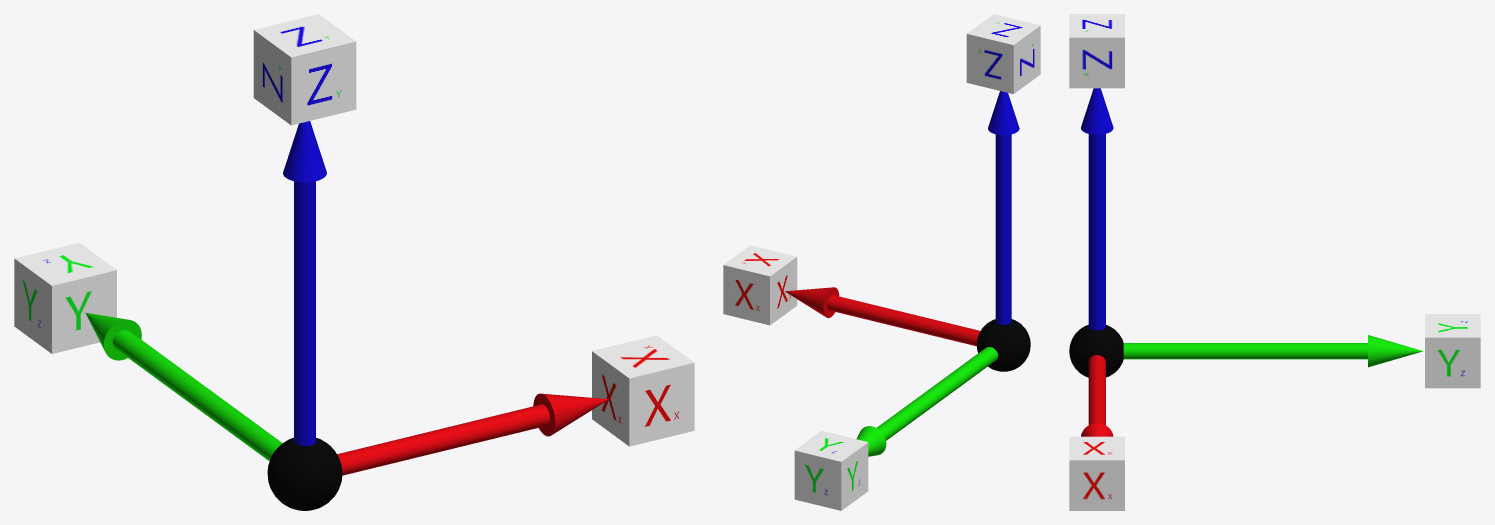
Rendered from morphDebugAxis.glb.
The picture shows the model from 3 angles, left to right: view 1: azimuth 30°, elevation 25°; view 2: azimuth 150°, elevation 25°; view 3: azimuth 270°, elevation 25°; orthographic projection. The views are drawn at different scales.
Parts seen in each view (by area): view 1: cubeZ, cubeX, cubeY, z, x, y, center; view 2: cubeY, cubeZ, cubeX, z, x, y, center; view 3: y, z, cubeX, cubeY, cubeZ, center, x.
Boxes of the visible parts, <box> form: cubeZ: <box>253,14,356,125</box>; cubeX: <box>592,335,694,446</box>; cubeY: <box>14,242,116,353</box>; z: <box>283,121,326,445</box>; x: <box>337,393,608,475</box>; y: <box>85,312,282,461</box>; center: <box>267,437,342,510</box>; cubeY: <box>794,430,868,510</box>; cubeZ: <box>966,14,1040,93</box>; cubeX: <box>723,245,797,325</box>; z: <box>988,91,1019,324</box>; x: <box>785,287,980,346</box>; y: <box>856,347,998,456</box>; center: <box>976,319,1030,371</box>; y: <box>1123,335,1423,367</box>; z: <box>1081,88,1113,330</box>; cubeX: <box>1069,436,1124,510</box>; cubeY: <box>1425,314,1480,388</box>; cubeZ: <box>1069,14,1124,88</box>; center: <box>1069,325,1123,377</box>; x: <box>1081,355,1113,436</box>.
Size of the model in its own units: 12.39 by 13.85 by 14.73.
7 materials, 3 textured.
